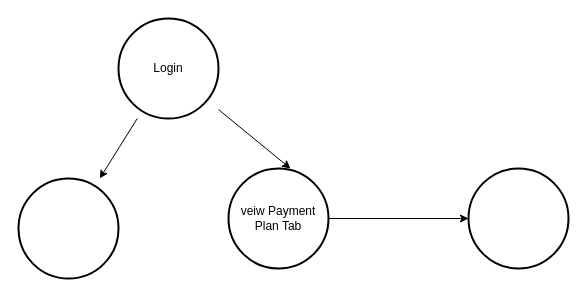
Image size: 586x296. Some labels were removed from this diagram. The shapes that lost their labels are listed below. From the top down, each one's centre as x and y in pixels, then its label:
At point (68, 228): "view list of due payment".
At point (518, 218): "view Transaction history Tab".
